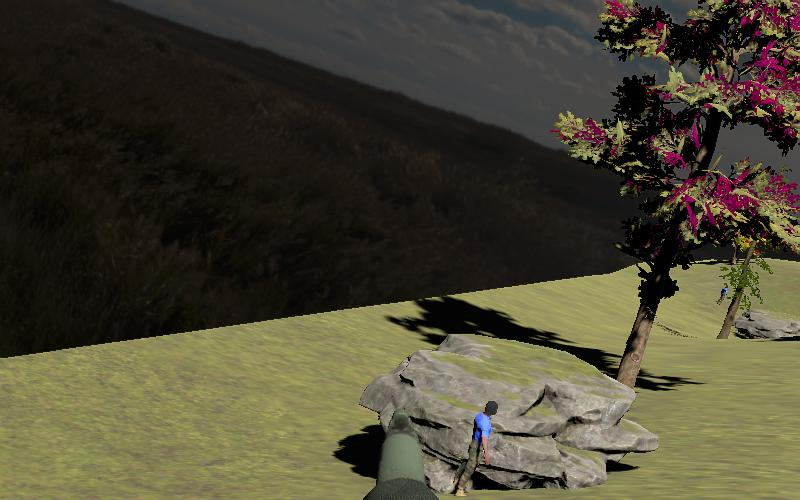Human: (451, 399, 500, 495)
